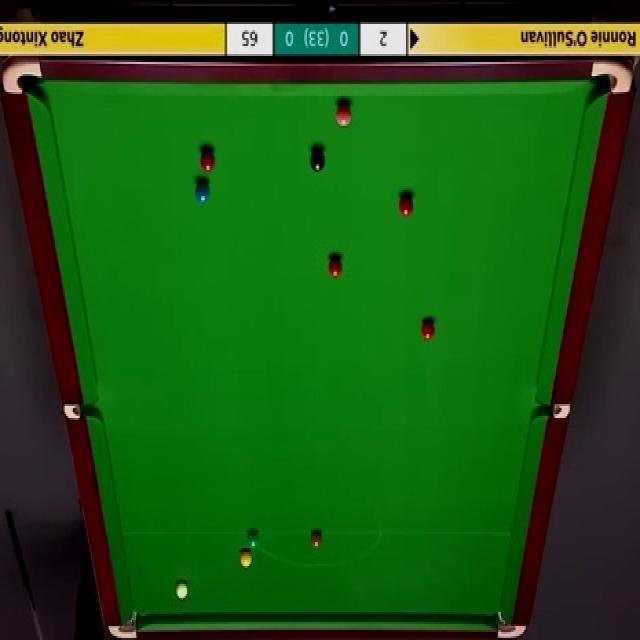pocket: (589, 58, 634, 98), (2, 60, 46, 98), (495, 606, 528, 640), (110, 608, 141, 640), (64, 400, 101, 422), (535, 405, 573, 420)
